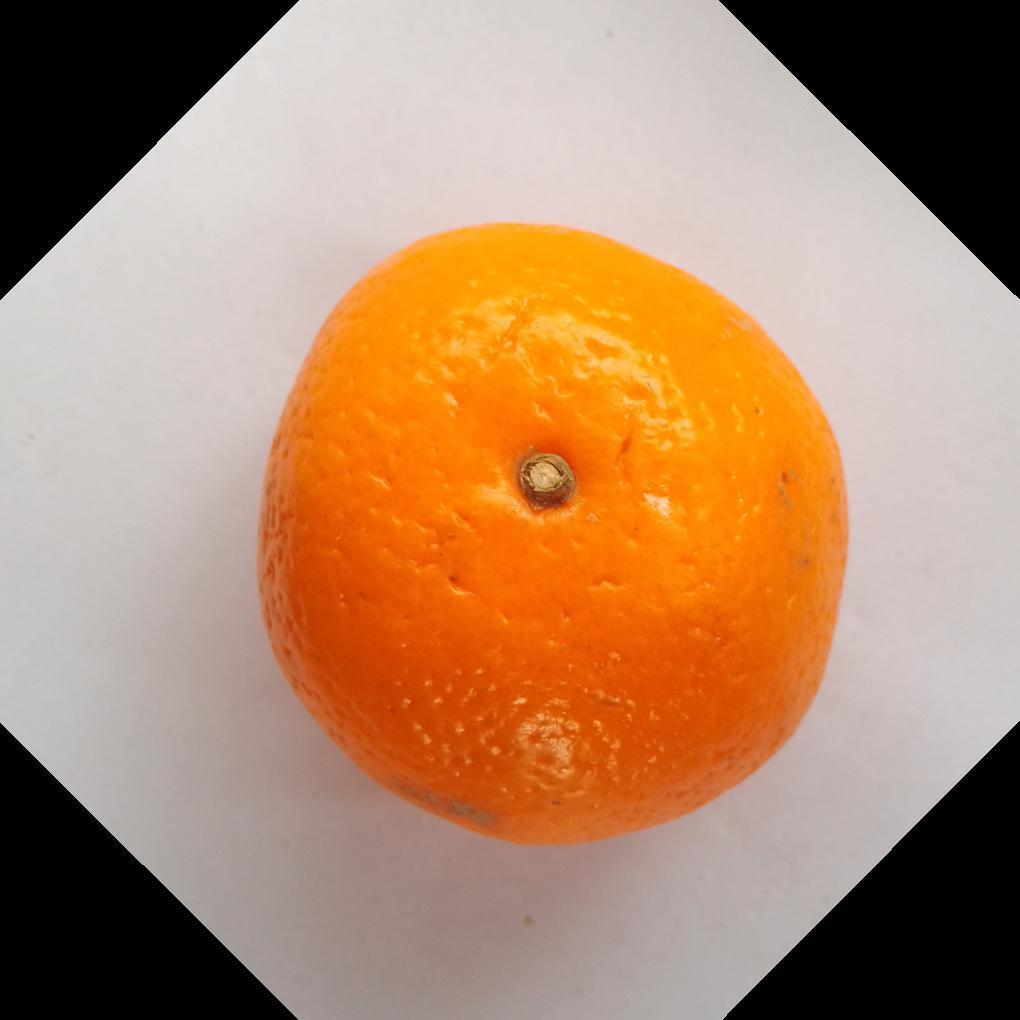FreshGuava: (254, 223, 852, 853)
